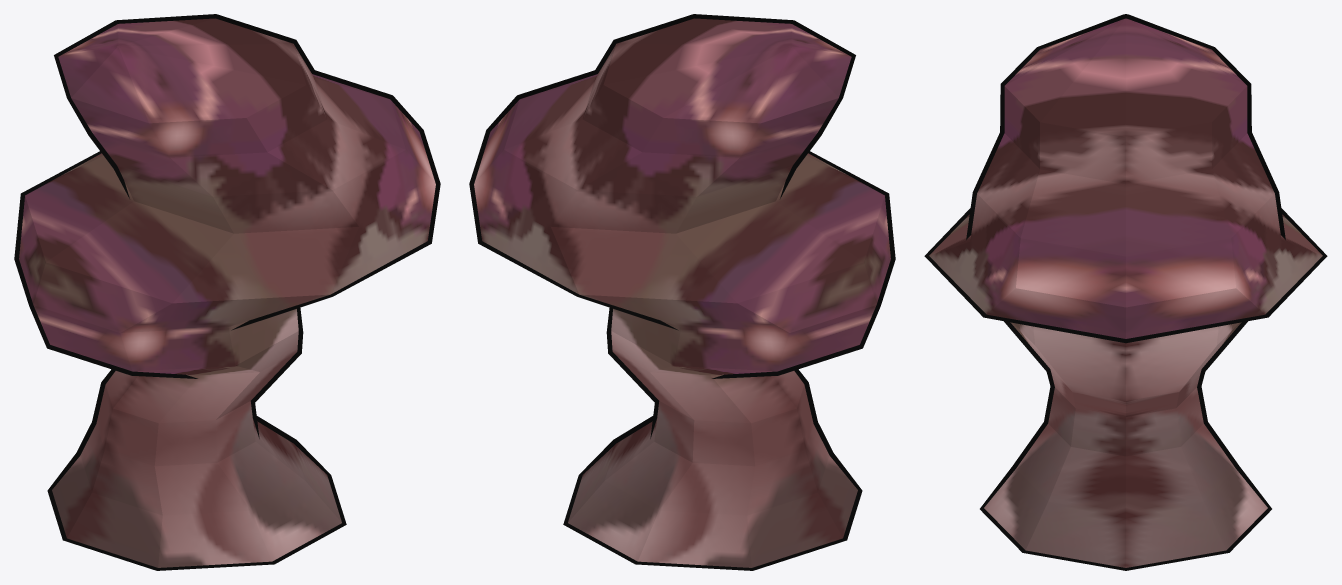
The model's file is Plant_Plant_TreeHarbinger_Things_Plant_TreeHarbinger_HarbingerTree_2.glb.
3 renders of one model, left to right at view 1: azimuth 30°, elevation 25°; view 2: azimuth 150°, elevation 25°; view 3: azimuth 270°, elevation 25°, orthographic. The views are drawn at different scales.
Visible parts, largest first — view 1: Body, Outline; view 2: Body, Outline; view 3: Body, Outline.
Boxes of the visible parts, x1,y1,x2,y2 form: Body: (19, 18, 435, 567); Outline: (14, 14, 440, 570); Body: (474, 18, 890, 567); Outline: (469, 14, 895, 570); Body: (929, 18, 1322, 567); Outline: (924, 14, 1327, 570).
Bounding box in the file's own units: 0.7343 × 0.9375 × 0.6874.
Materials: 2 (1 with a texture image).
